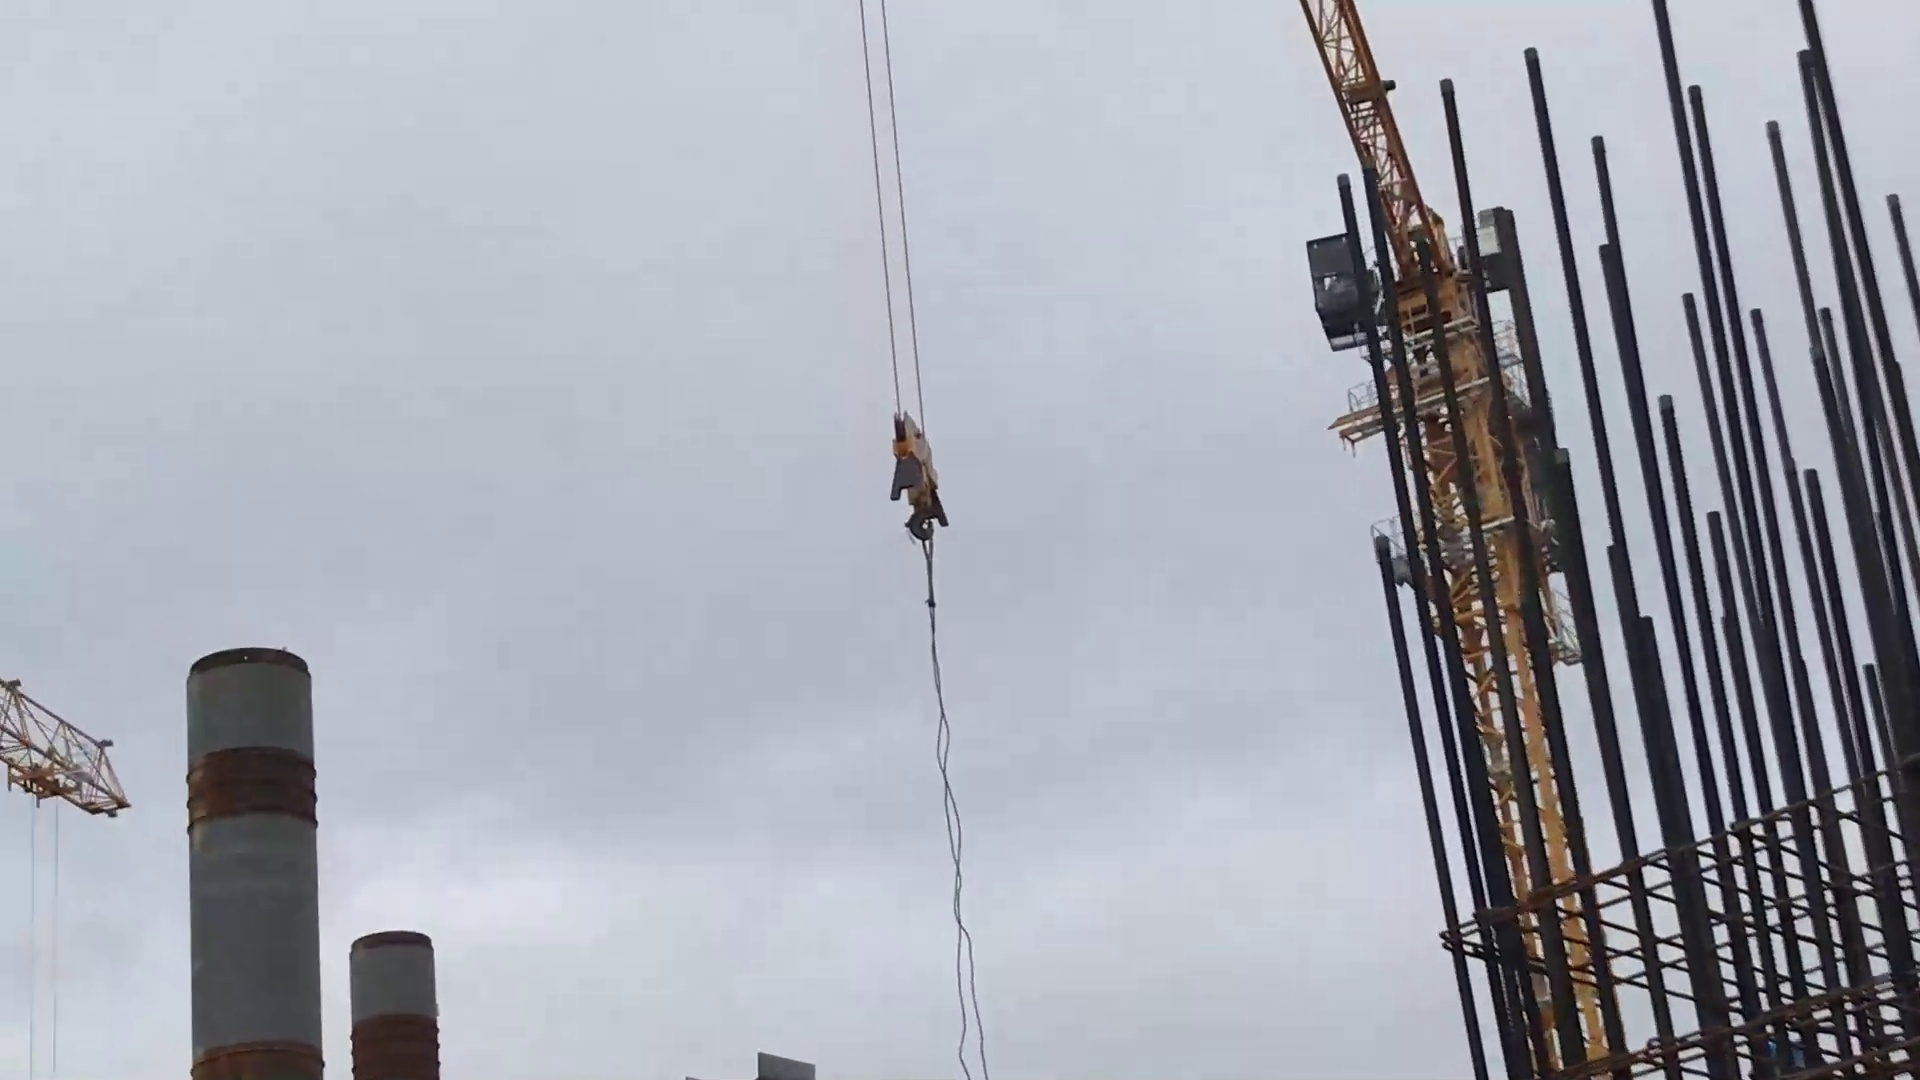hook: (861, 411, 975, 562)
